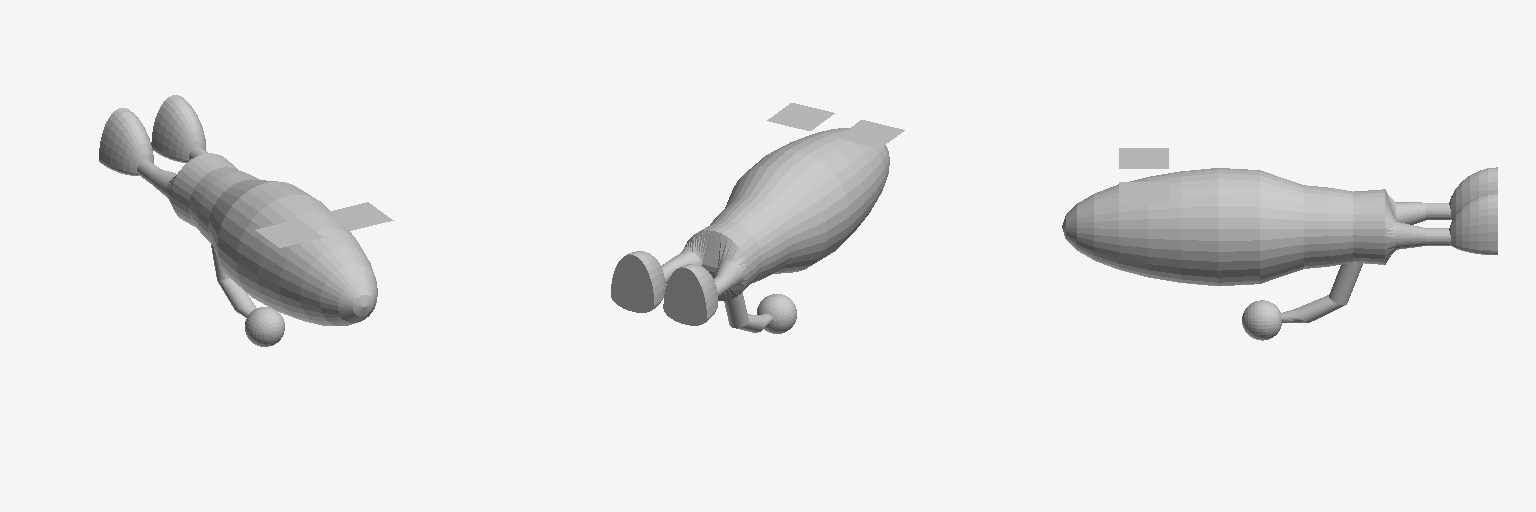
The model's file is unit.obj.
3 views of the same model, side by side, from view 1: azimuth 30°, elevation 25°; view 2: azimuth 150°, elevation 25°; view 3: azimuth 270°, elevation 25° (orthographic).
Visible parts, largest first — view 1: Unit_Sphere; view 2: Unit_Sphere; view 3: Unit_Sphere.
Boxes of the visible parts, <box> form: Unit_Sphere: <box>99,95,393,346</box>; Unit_Sphere: <box>611,103,904,333</box>; Unit_Sphere: <box>1062,148,1497,340</box>.
Size of the model in its own units: 0.13 by 0.1807 by 0.4317.